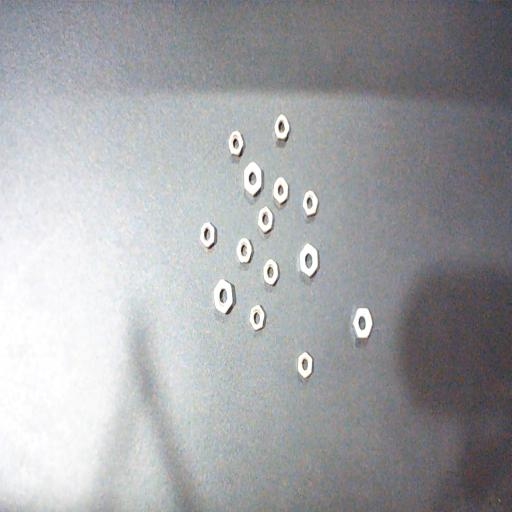nut: (214, 279, 235, 315), (299, 242, 319, 279), (243, 160, 263, 196), (352, 307, 373, 341), (236, 237, 253, 264), (274, 177, 290, 205), (200, 221, 216, 249), (249, 305, 266, 331), (298, 351, 313, 380), (274, 114, 290, 141), (263, 259, 279, 286), (258, 206, 273, 234), (228, 130, 244, 156), (303, 190, 318, 217)
